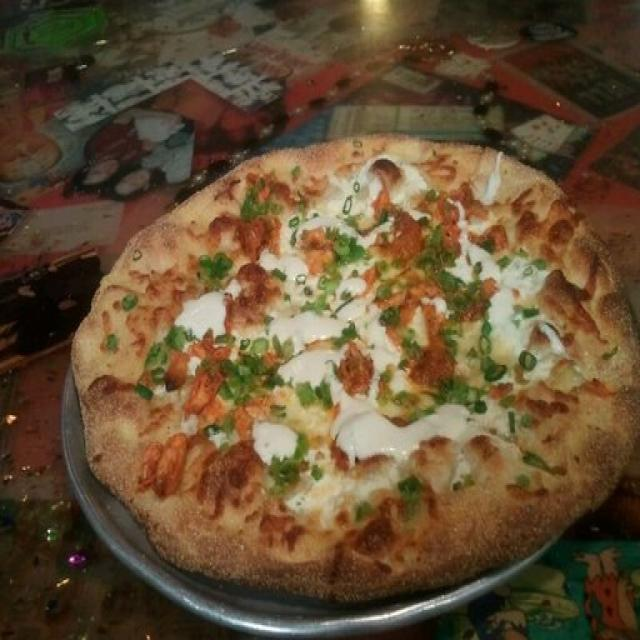Cheese: (339, 407, 495, 466), (474, 227, 528, 368), (276, 181, 372, 257), (288, 309, 341, 412), (166, 268, 229, 346)
Pizza: (71, 137, 640, 608)
